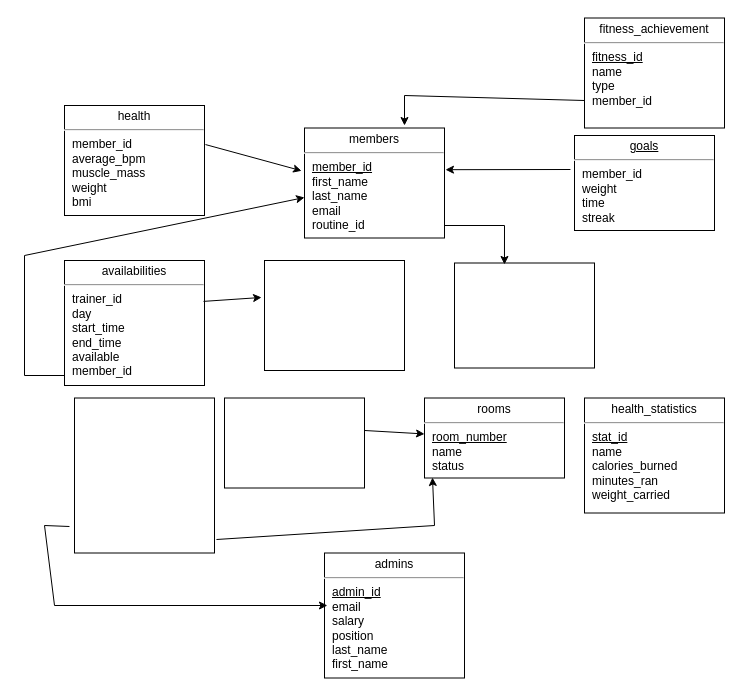
Some shapes in this 742 by 695 pixel diagram are drawn without their labels. Each missing label, with the centre of its shape:
classes class_id instructor quantity capacity class_name isFull admin_id room_id: (144,475)
equipments equipment_id name status room_id: (294,442)
exercise_routines exercise_id name duration type defecit: (524,315)
trainers trainer_id first_name last_name email salary: (334,315)
